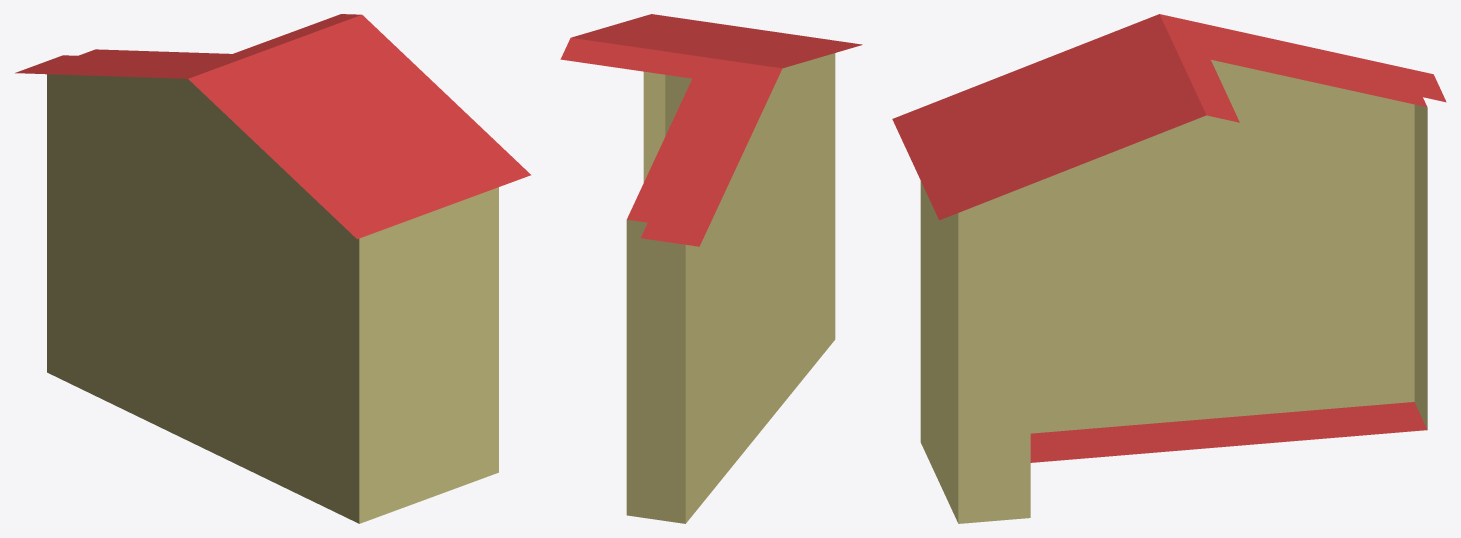
3 renders of one model, left to right at view 1: azimuth 30°, elevation 25°; view 2: azimuth 150°, elevation 25°; view 3: azimuth 270°, elevation 25°, orthographic. The views are drawn at different scales.
Bounding box in the file's own units: 7.11 × 11.4 × 9.04.
